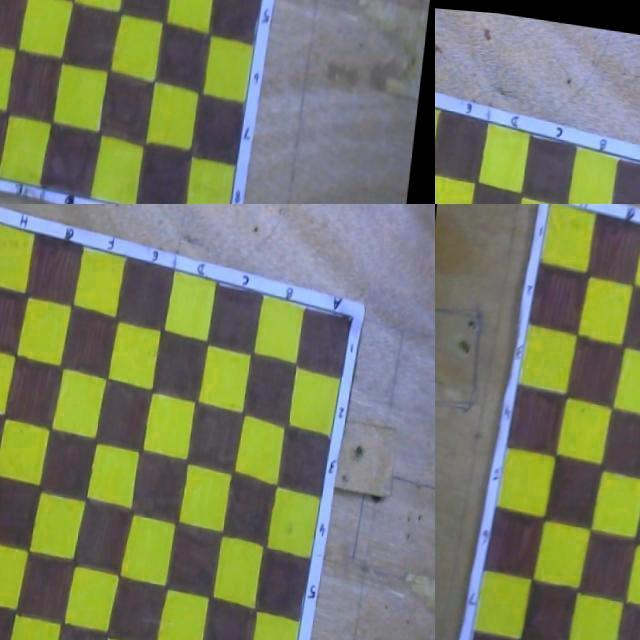chess-table-corners: (350, 306, 355, 312), (300, 0, 307, 4), (435, 68, 438, 76), (548, 204, 553, 207), (0, 142, 2, 149), (0, 215, 2, 222)
